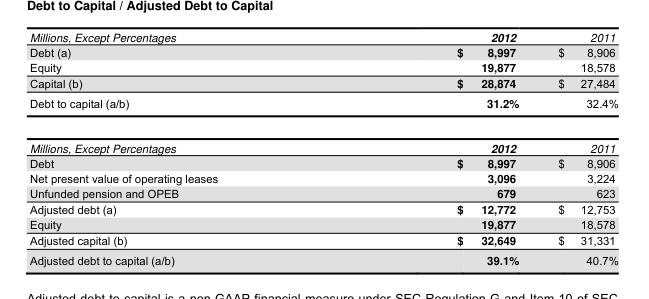table: (29, 28, 617, 267)
table column: (29, 28, 336, 267), (336, 28, 537, 267), (537, 28, 617, 267)
table column header: (29, 28, 617, 44)
table row: (29, 92, 617, 125), (29, 125, 617, 154), (29, 74, 617, 92), (29, 232, 617, 250), (29, 250, 617, 267), (29, 28, 617, 44), (29, 154, 617, 170), (29, 200, 617, 216), (29, 216, 617, 232), (29, 44, 617, 59), (29, 59, 617, 74), (29, 170, 617, 185), (29, 185, 617, 200)
